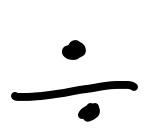div: (11, 40, 138, 122)
